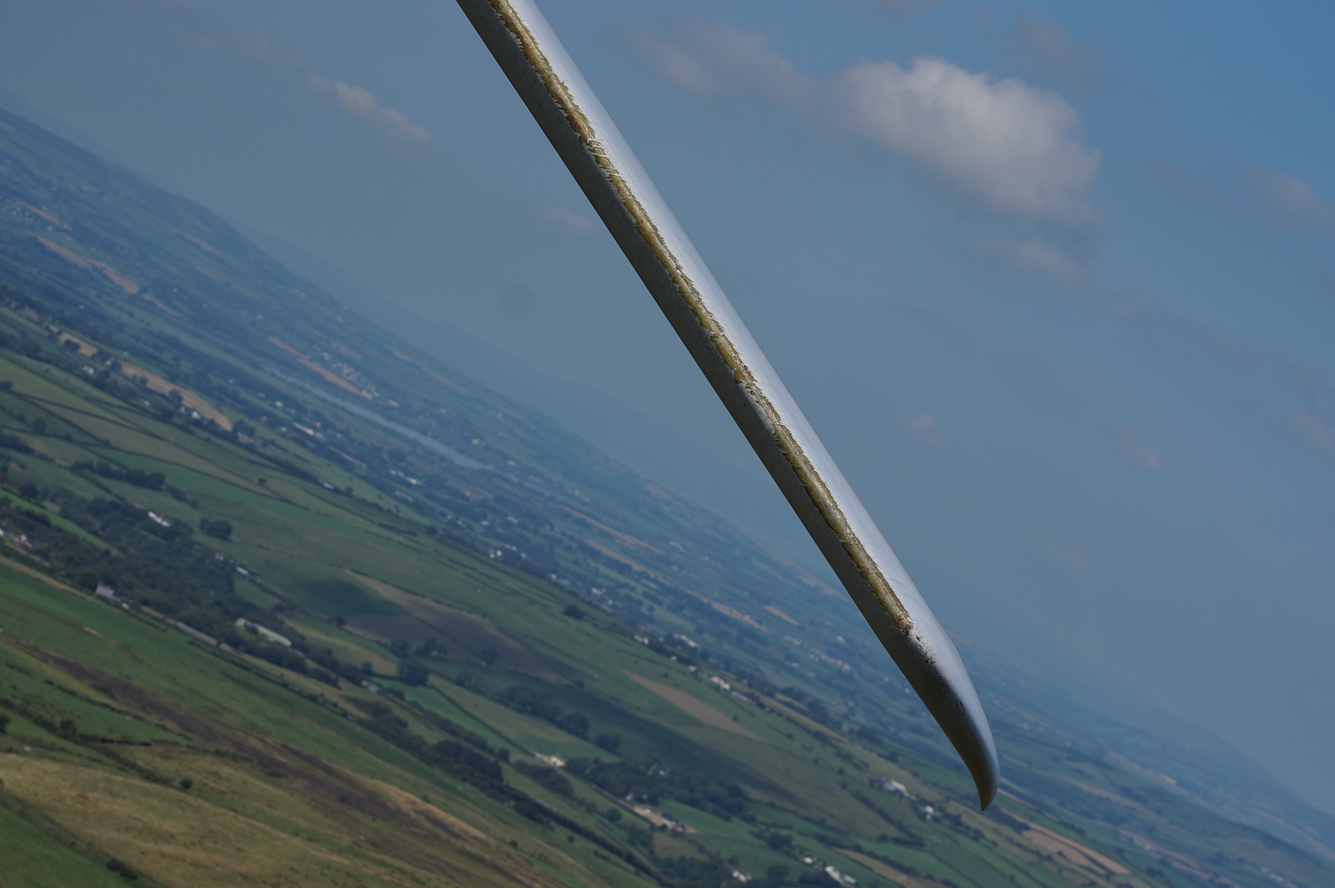Damage: (486, 1, 919, 644)
